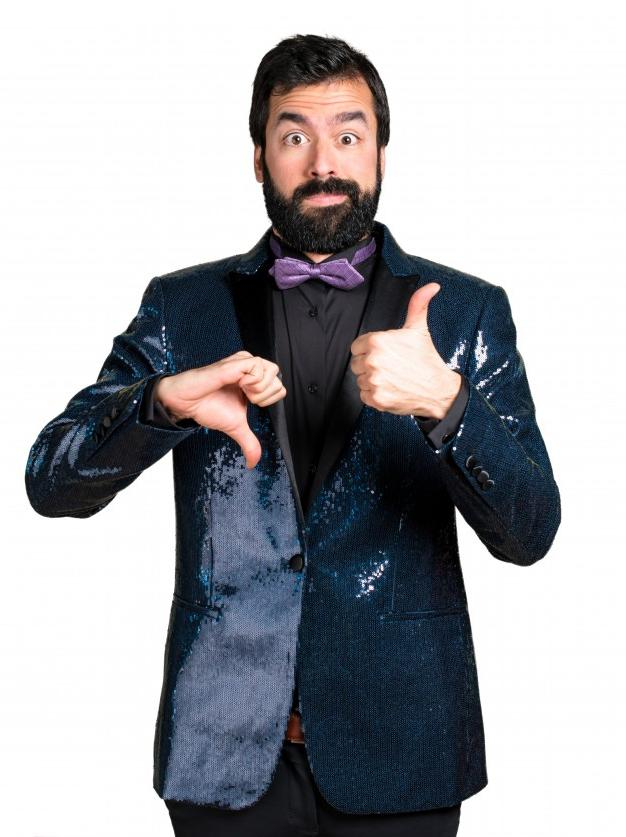thumbsup: (350, 282, 441, 408)
